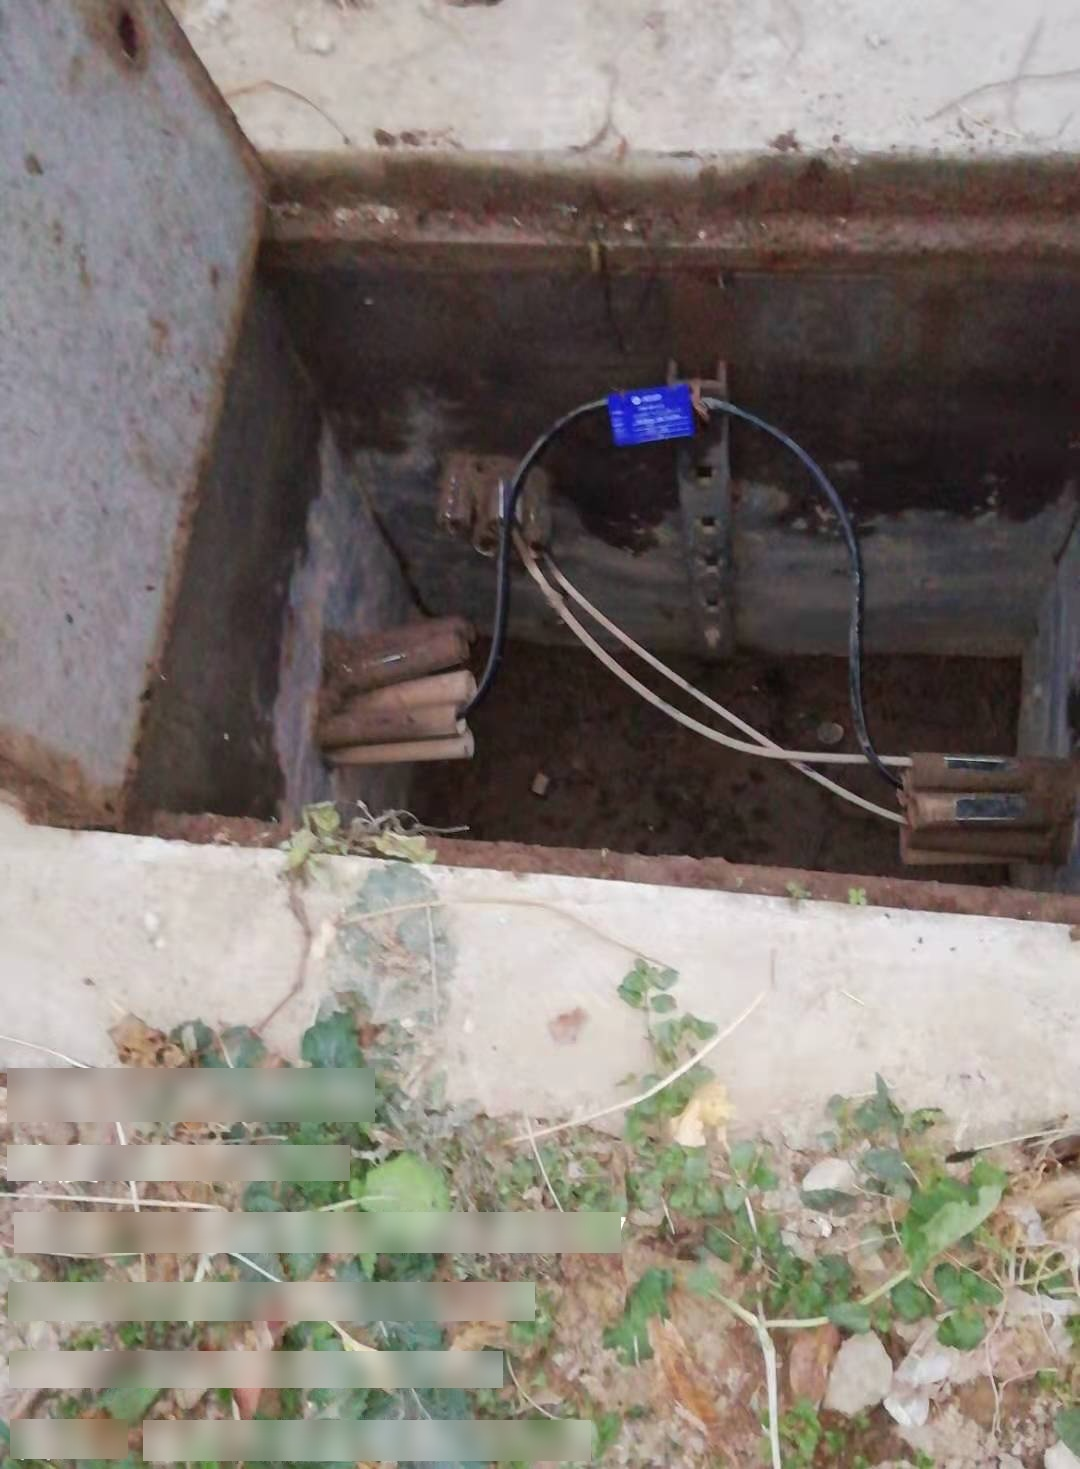uncovered: (9, 13, 1080, 930)
